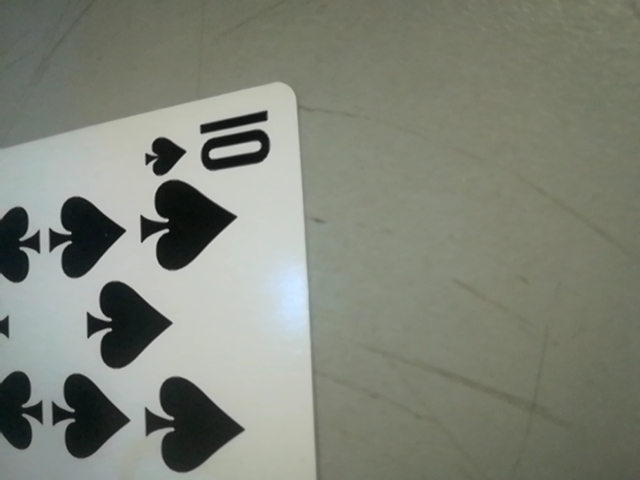ht 10: (144, 101, 284, 184)
